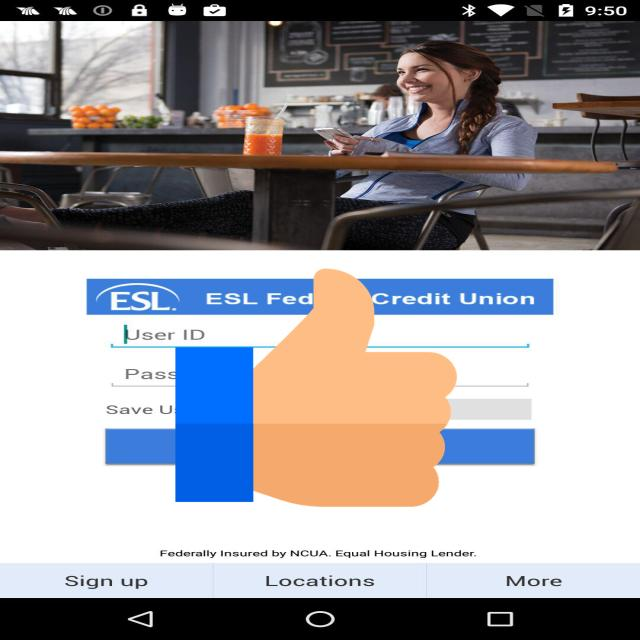privacy zuckering: (175, 262, 457, 512)
